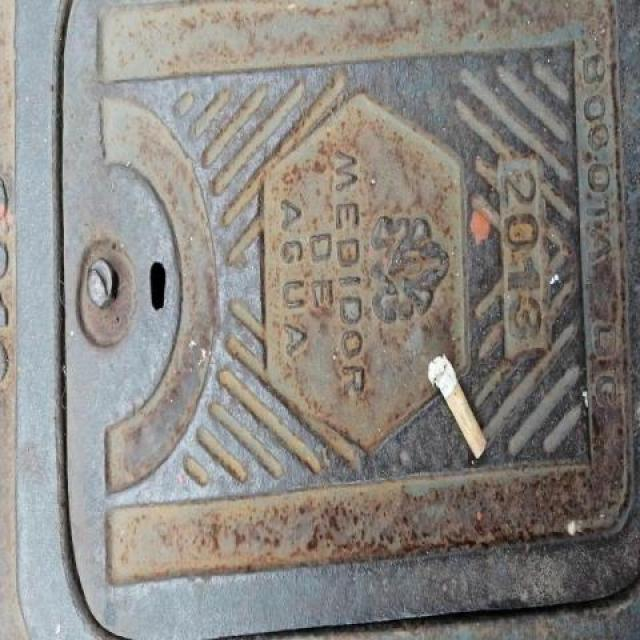non-organic waste: (422, 349, 490, 463)
